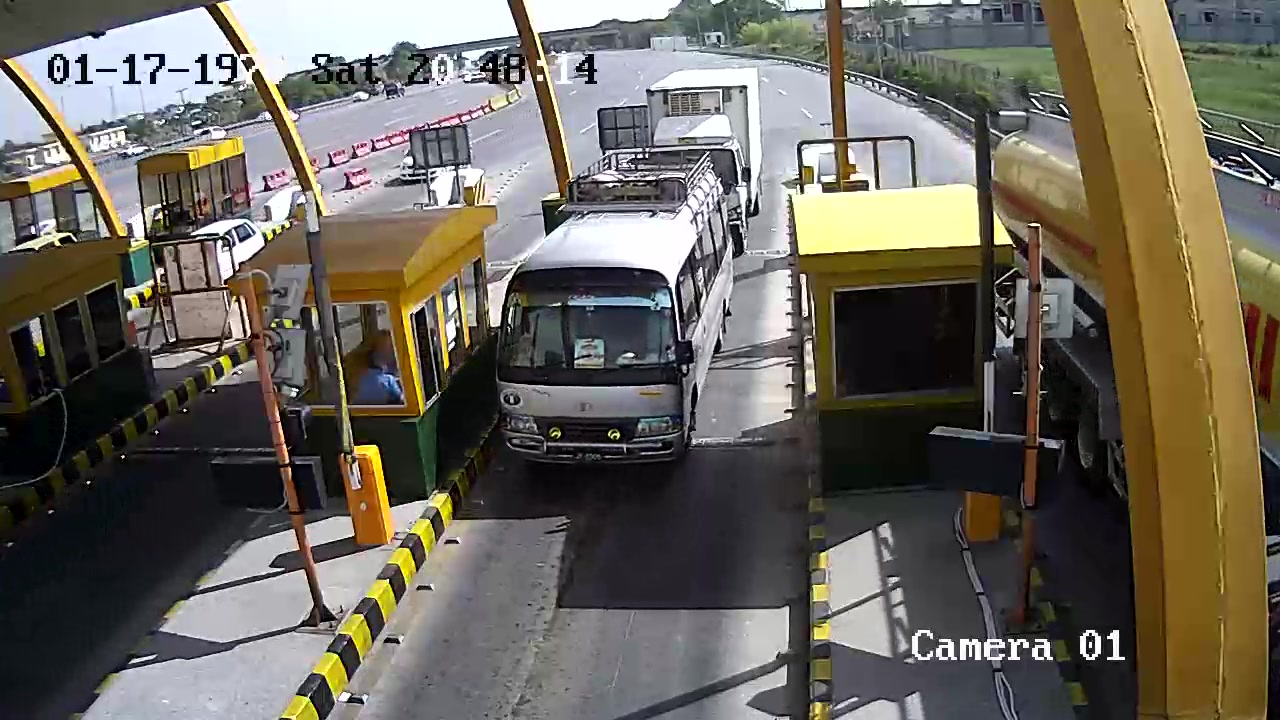F3: (500, 148, 729, 474)
